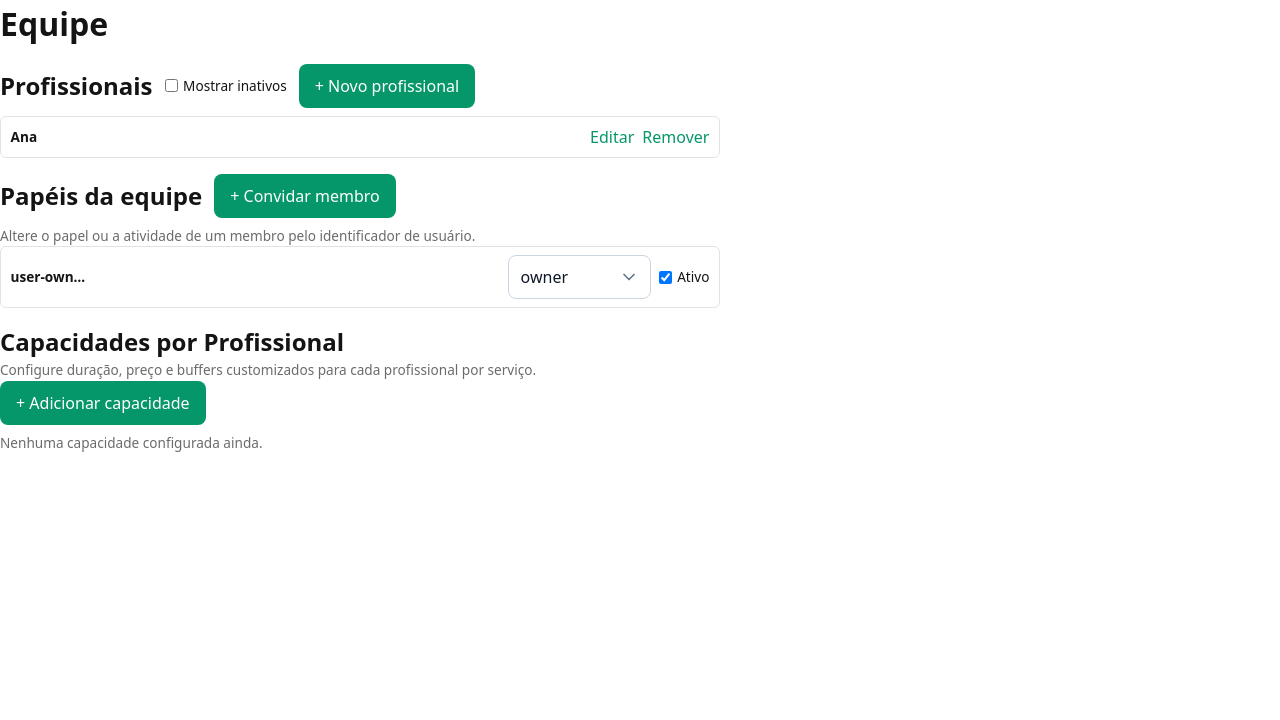
it: EquipePage › lets the owner send an invite and appends the returned membership
The width and height of the screenshot is (1280, 720).
Expected: the text "+ Convidar membro" is shown, [230, 184, 380, 208]
Click the button "+ Convidar membro" at (305, 196), box [214, 174, 396, 218]
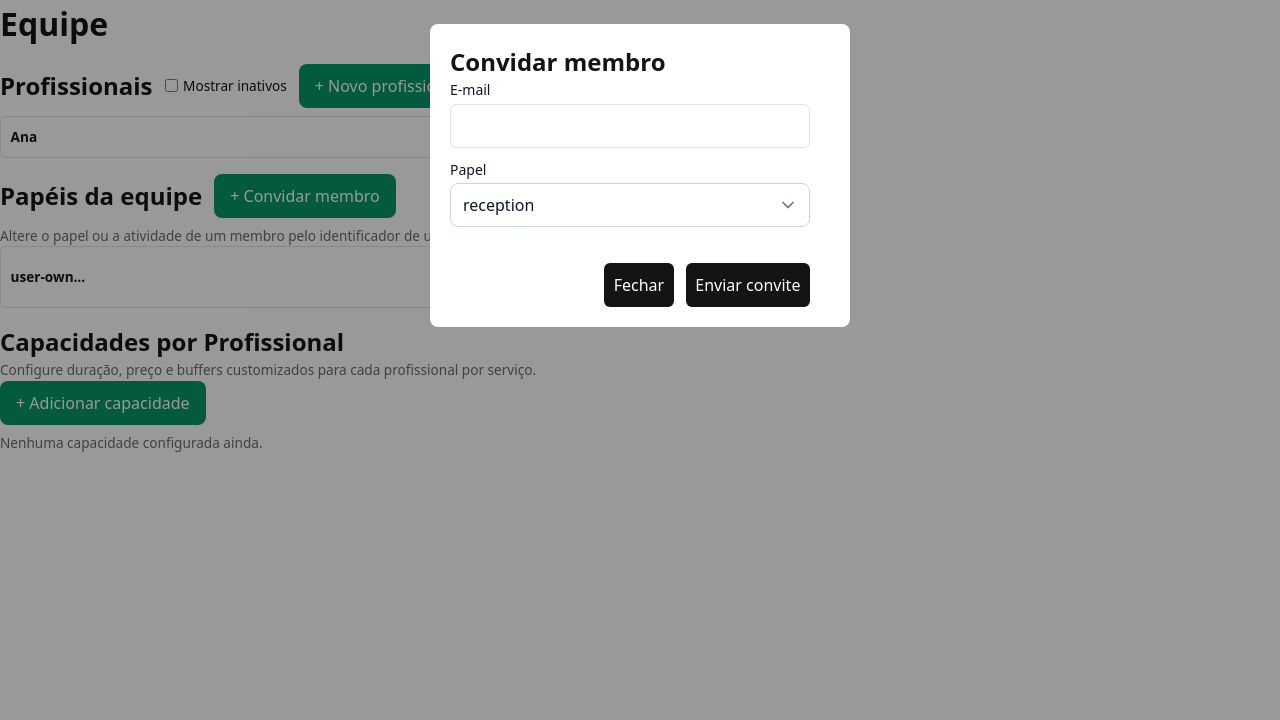
Type "nova@test.local" into the field labelled "E-mail" at (630, 126), box [450, 104, 810, 148]
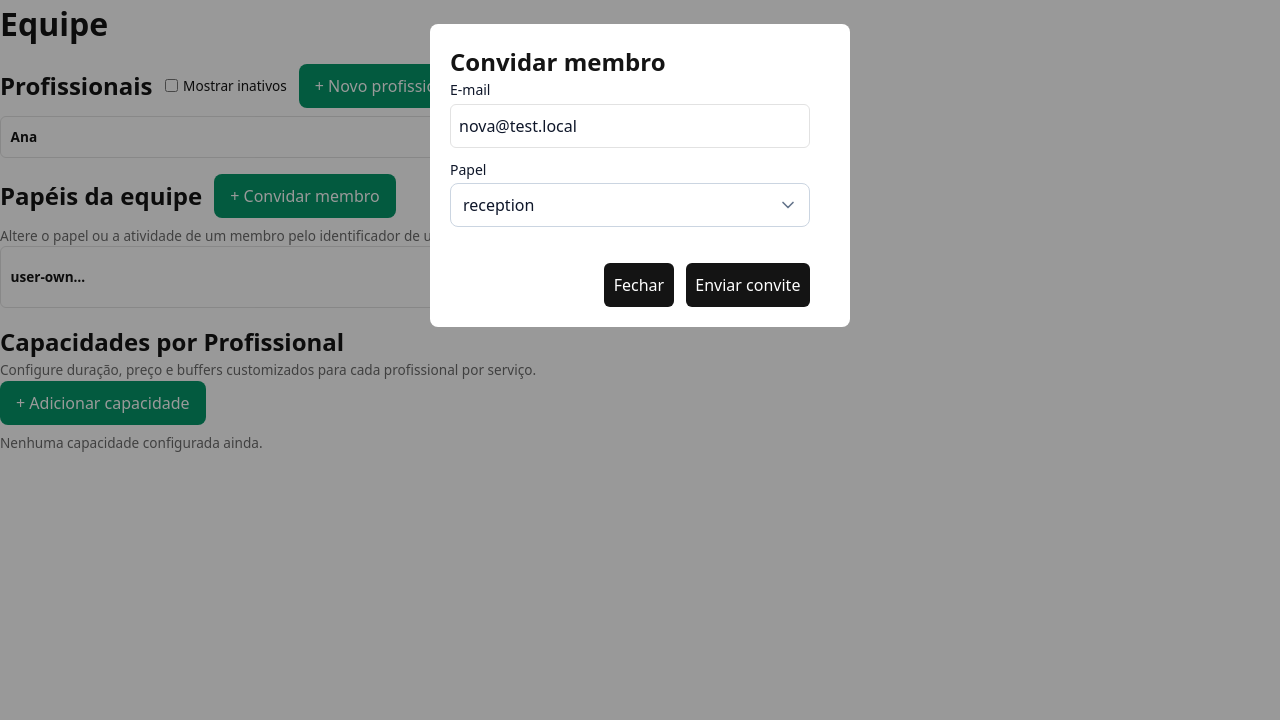
Click the button "Enviar convite" at (748, 285), box [686, 263, 810, 307]
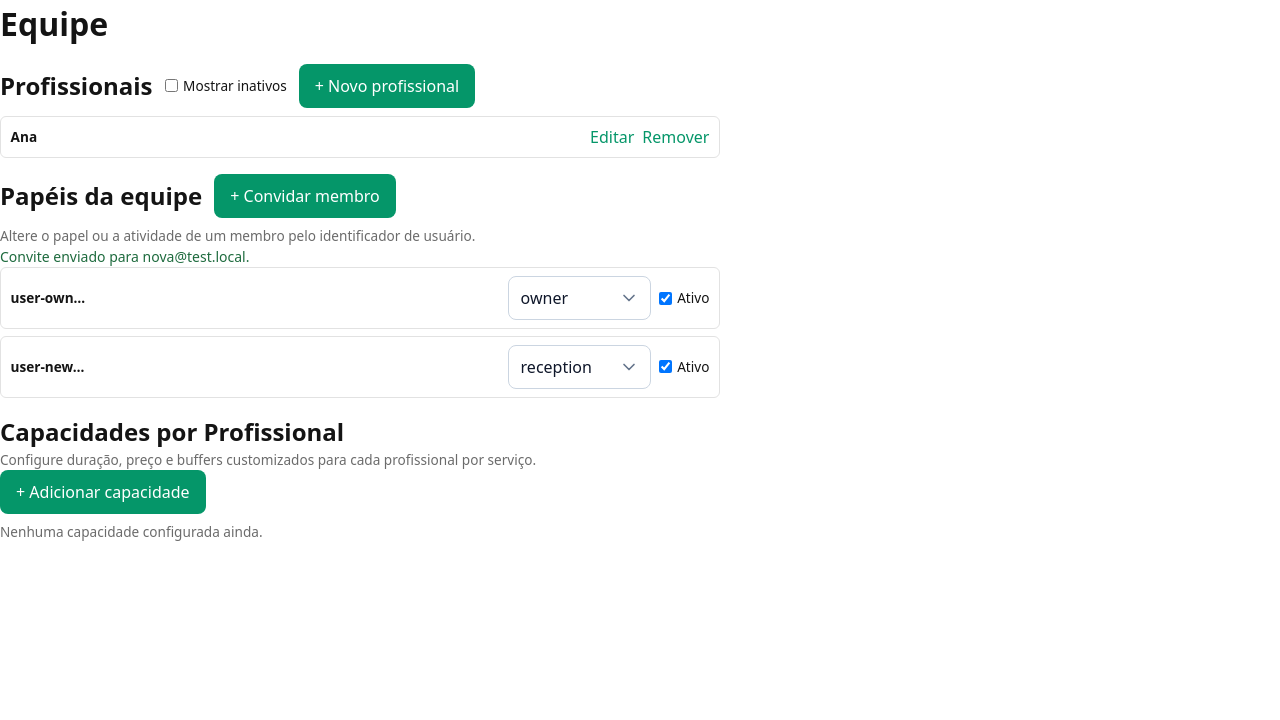
Now the text "Convite enviado para nova@test.local." is shown, box [0, 247, 250, 266]
Now the text "user-new…" is shown, box [11, 357, 84, 376]
